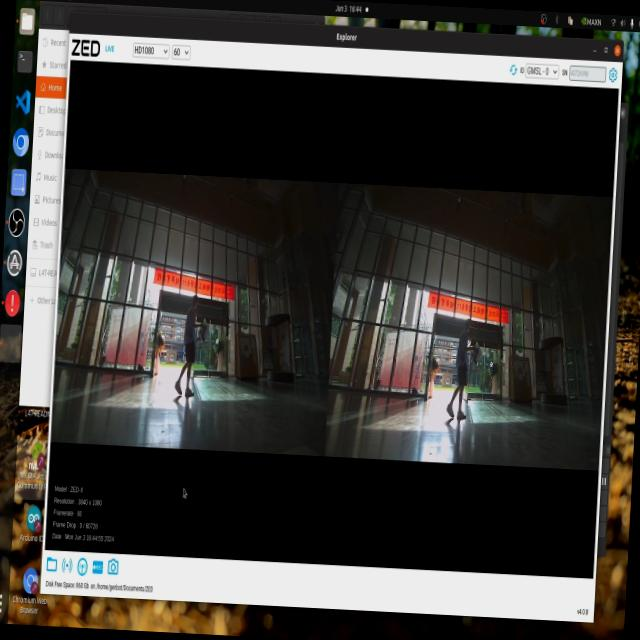blue: (199, 316, 209, 344), (471, 341, 479, 364)
